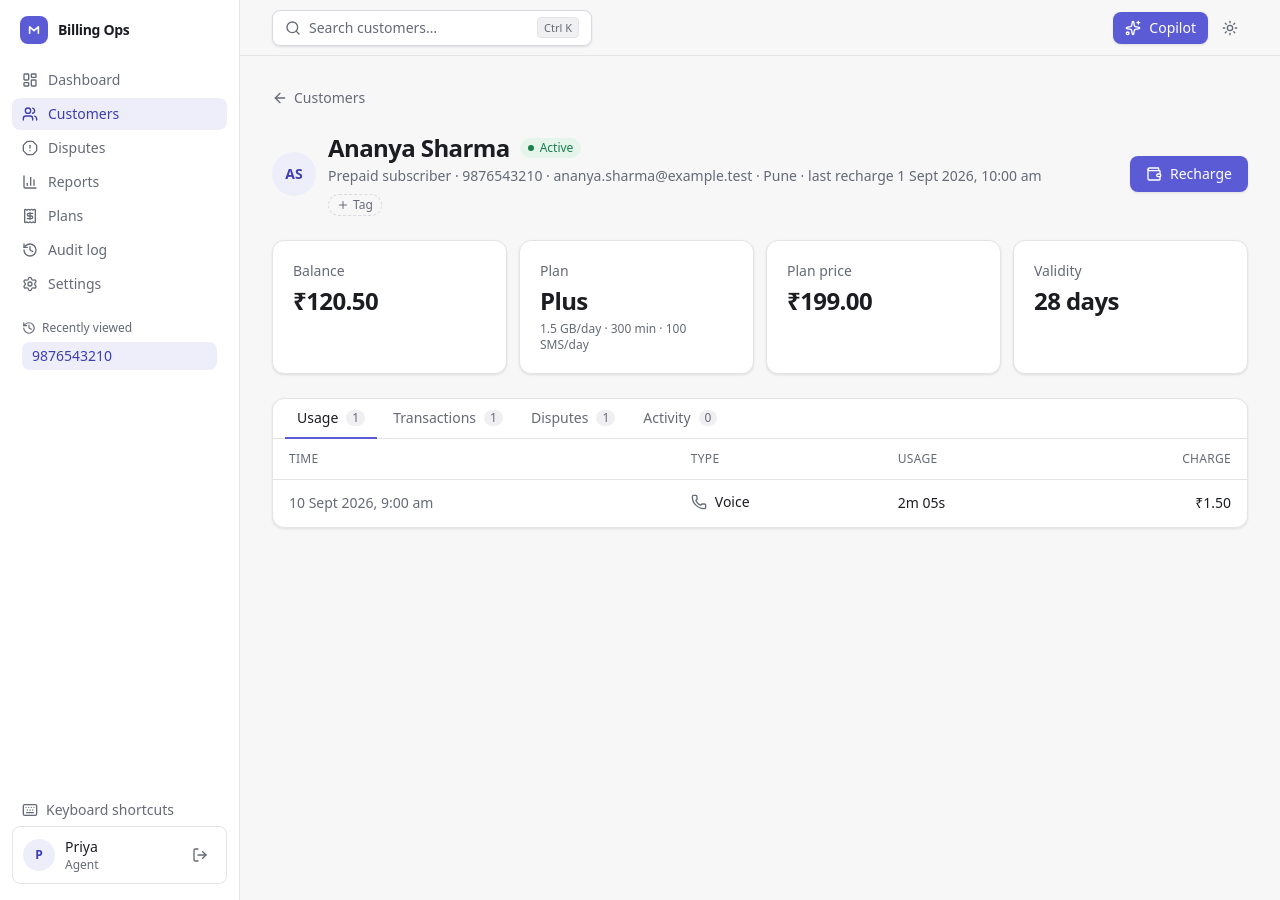
Test: Copilot drawer › streams progress, then shows the answer with route and sources
Click the button with test id "copilot-open" at (1161, 28), box [1113,12,1208,44]
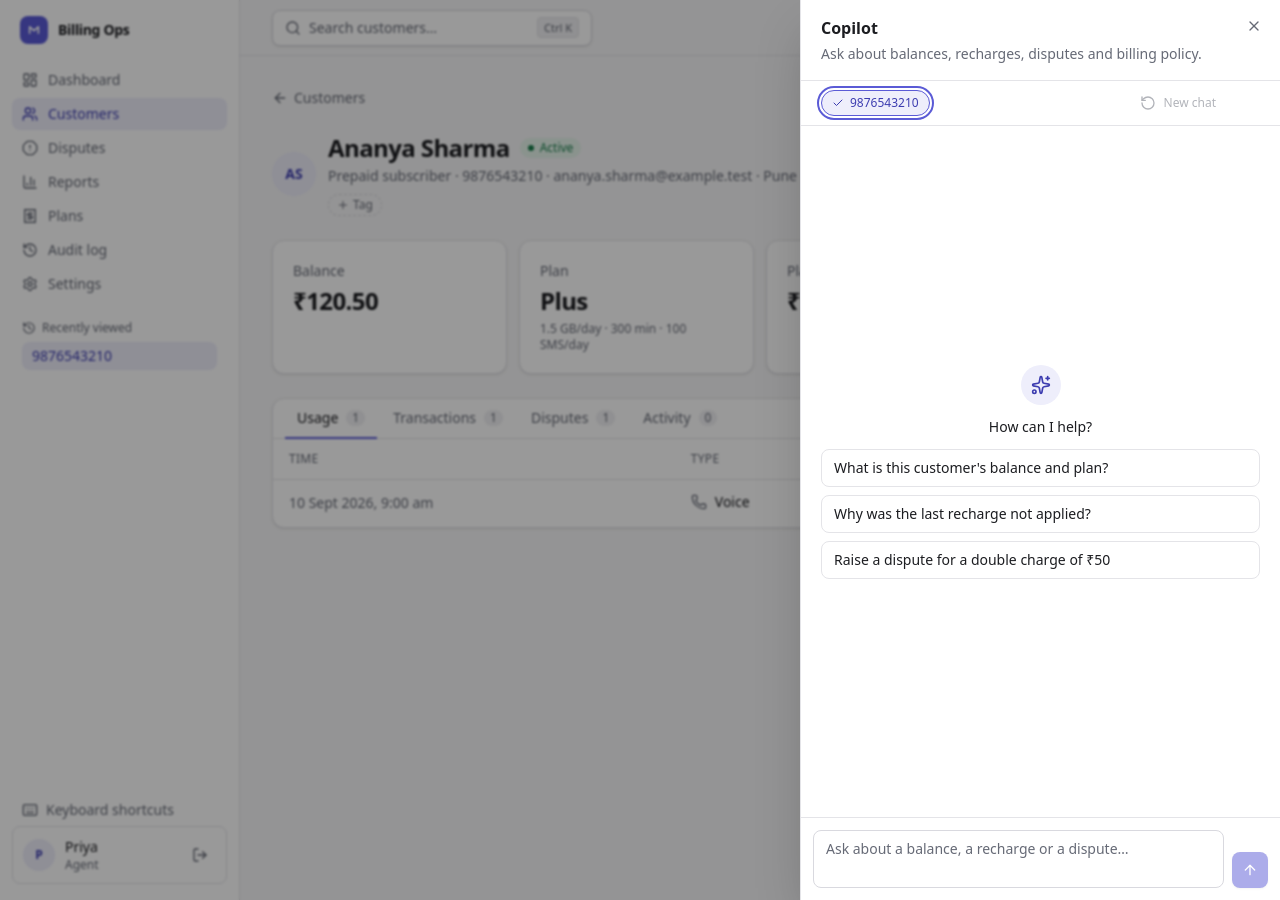
Type "What is my balance?" into the text box with test id "copilot-input" at (1018, 859), box [813,830,1224,888]
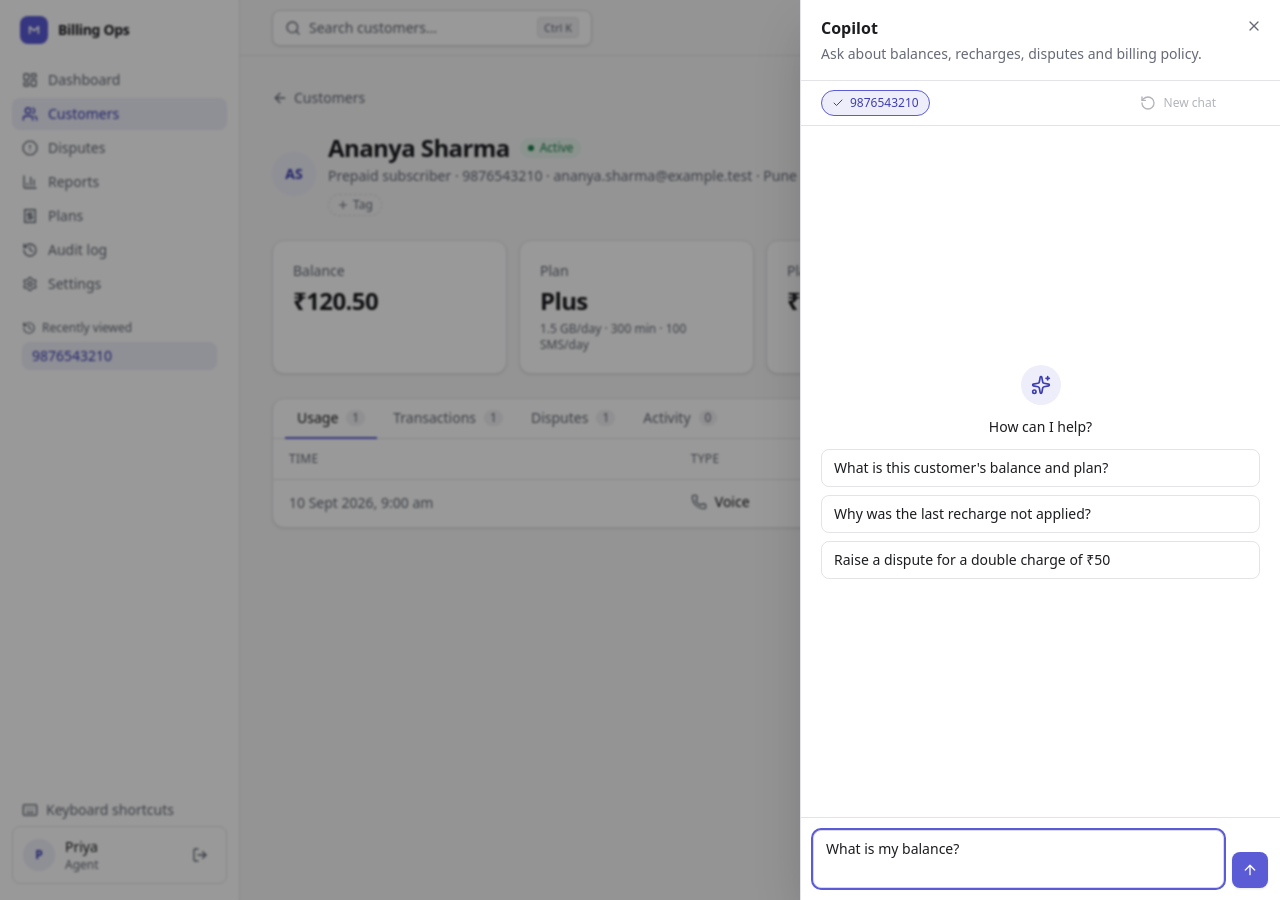
Press Enter
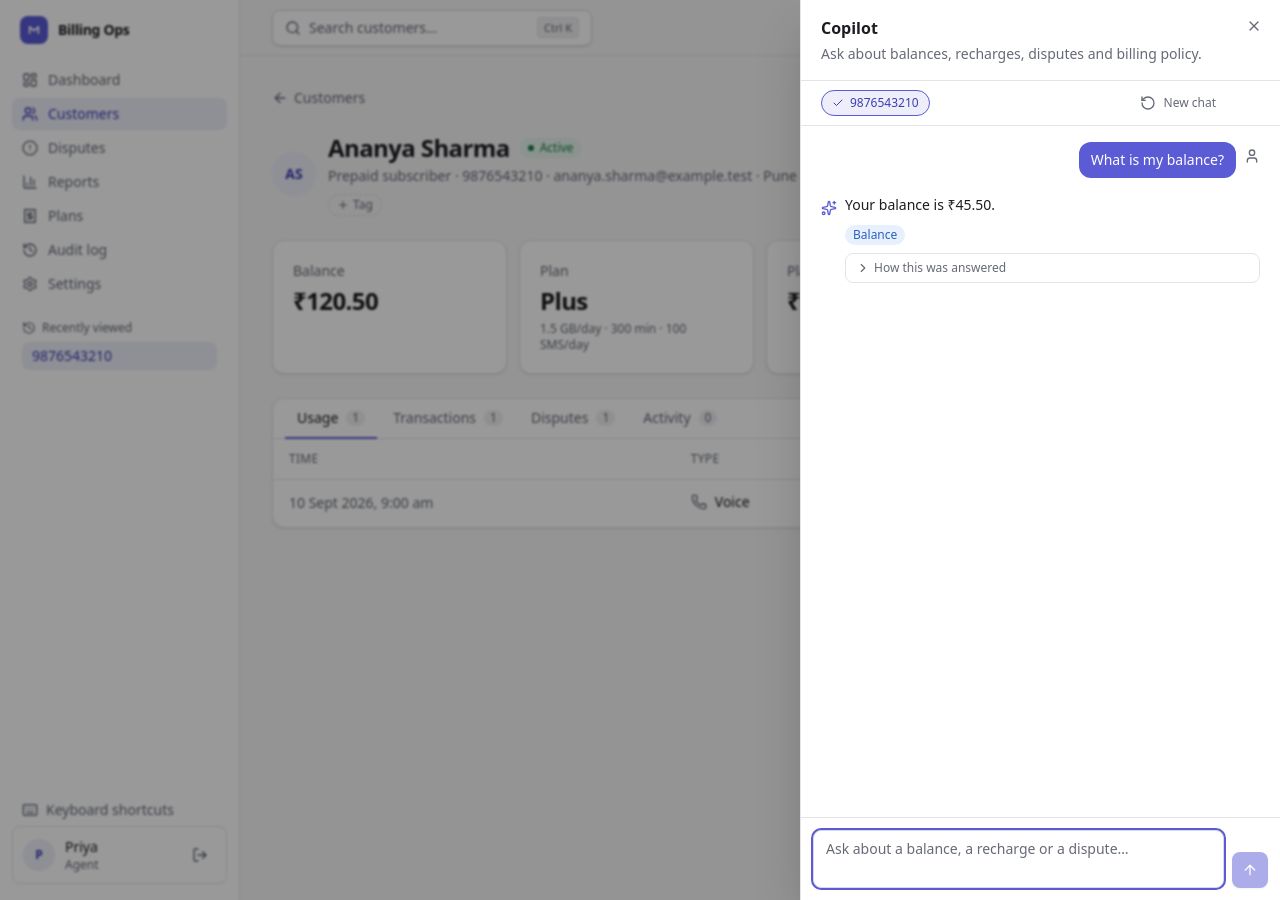
Check: the text "Your balance is ₹45.50." is shown, box [845,195,995,214]
Check: the text with test id "copilot-route" reads "Balance", box [853,226,897,243]
